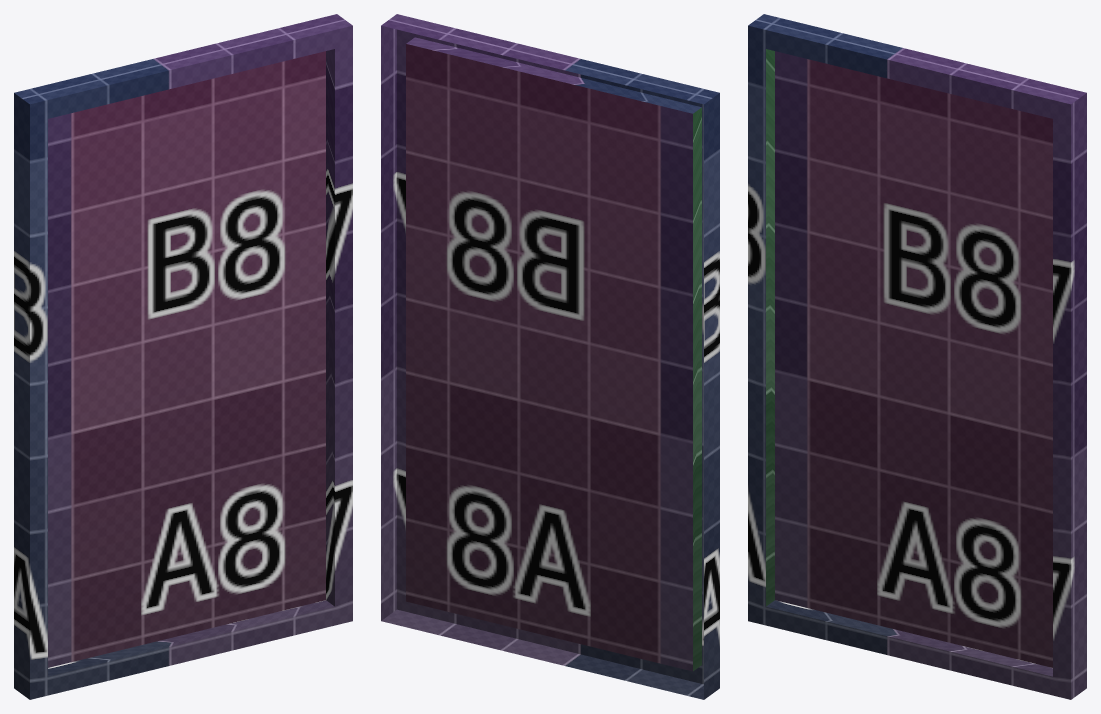
File: JanelaAltaGrande.fbx
3 views of the same model, side by side, from view 1: azimuth 30°, elevation 25°; view 2: azimuth 150°, elevation 25°; view 3: azimuth 330°, elevation 25° (orthographic).
Visible parts, largest first — view 1: JanelaAltaGrande; view 2: JanelaAltaGrande; view 3: JanelaAltaGrande.
Part boxes in pixels (<box>): JanelaAltaGrande: <box>14,14,352,699</box>; JanelaAltaGrande: <box>381,14,719,699</box>; JanelaAltaGrande: <box>748,14,1086,699</box>.
Bounding box in the file's own units: 338 × 596 × 28.8.
